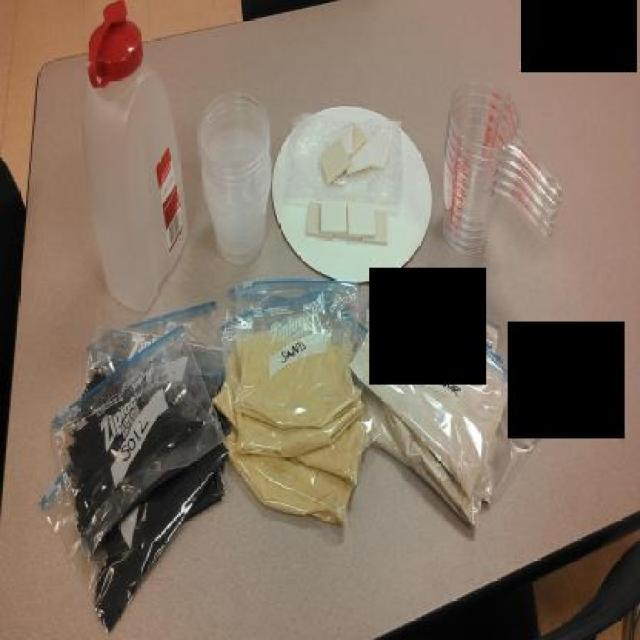plastic bag: (217, 267, 538, 538)
